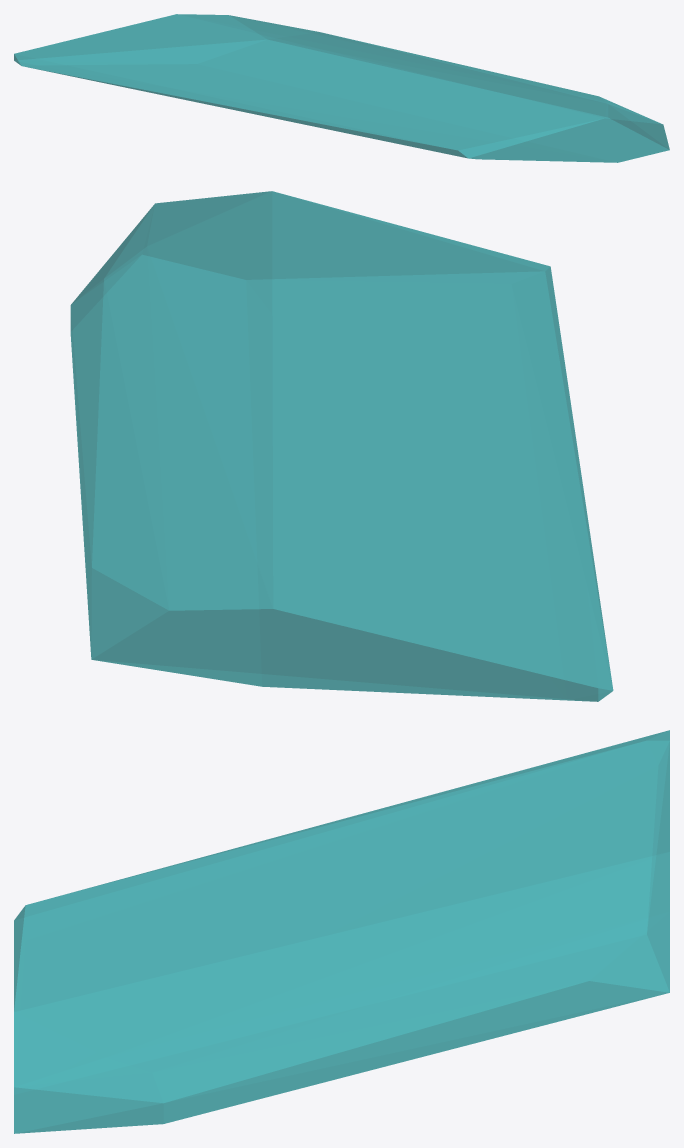
3 views of the same model, one above another, from view 1: azimuth 30°, elevation 25°; view 2: azimuth 150°, elevation 25°; view 3: azimuth 270°, elevation 25° (orthographic). The views are drawn at different scales.
Parts seen in each view (by area): view 1: Shape_IndexedFaceSet.026_Shape_IndexedFaceSet.5917; view 2: Shape_IndexedFaceSet.026_Shape_IndexedFaceSet.5917; view 3: Shape_IndexedFaceSet.026_Shape_IndexedFaceSet.5917.
Part boxes in pixels (<box>): Shape_IndexedFaceSet.026_Shape_IndexedFaceSet.5917: <box>14,14,669,162</box>; Shape_IndexedFaceSet.026_Shape_IndexedFaceSet.5917: <box>70,191,613,701</box>; Shape_IndexedFaceSet.026_Shape_IndexedFaceSet.5917: <box>14,730,669,1133</box>.
Bounding box in the file's own units: 0.134 × 0.0138 × 0.1123.
